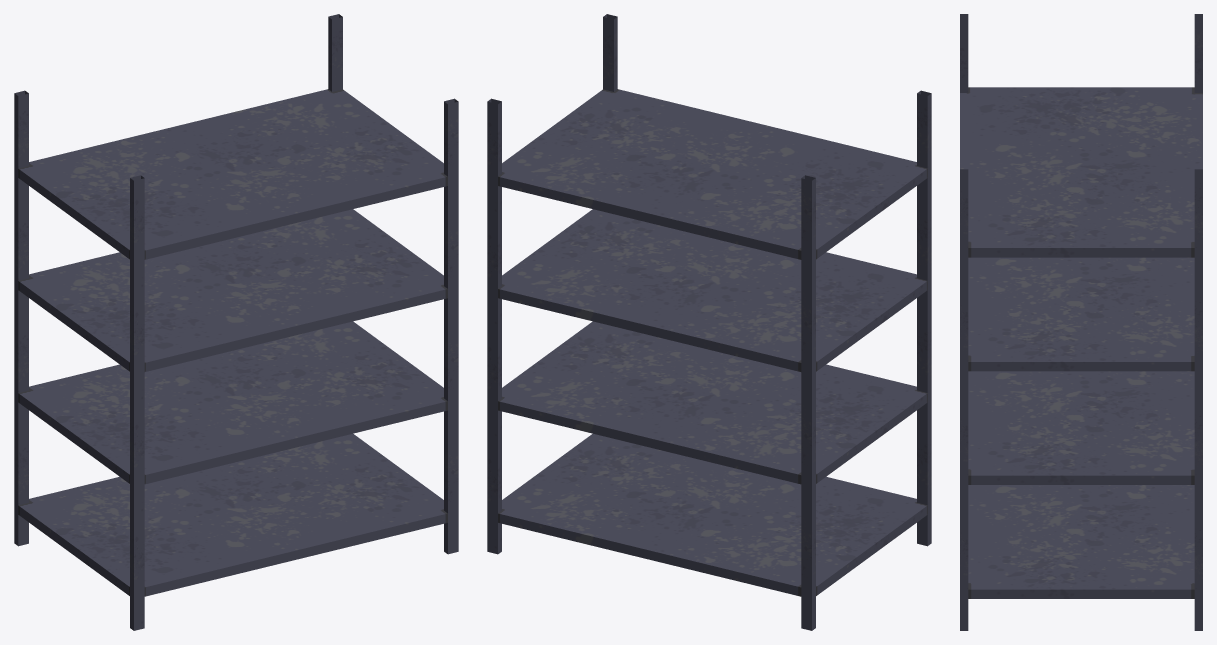
File: shelves.obj
The picture shows the model from 3 angles, left to right: view 1: azimuth 30°, elevation 25°; view 2: azimuth 150°, elevation 25°; view 3: azimuth 270°, elevation 25°; orthographic projection.
Visible parts, largest first — view 1: Shelves_Cube.036_Cube.060; view 2: Shelves_Cube.036_Cube.060; view 3: Shelves_Cube.036_Cube.060.
Part boxes in pixels (<box>): Shelves_Cube.036_Cube.060: <box>14,14,458,630</box>; Shelves_Cube.036_Cube.060: <box>487,14,931,630</box>; Shelves_Cube.036_Cube.060: <box>960,14,1202,630</box>.
Size of the model in its own units: 5.7 by 7.55 by 3.64.
Materials: 1 (1 with a texture image).
